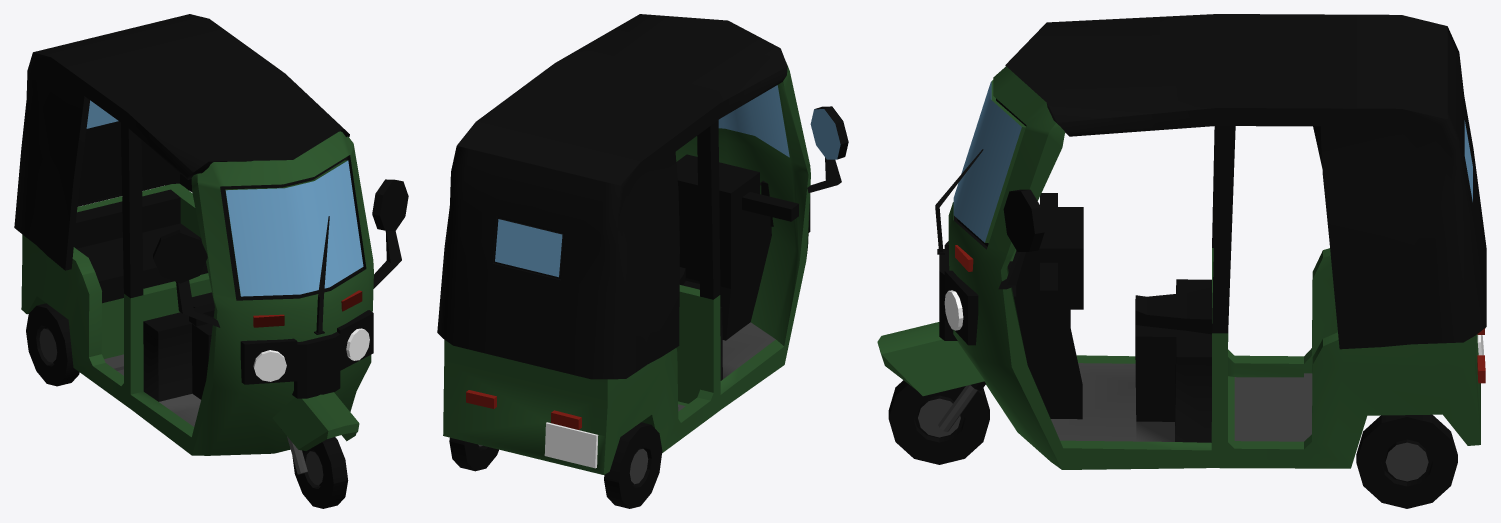
Rendered from SM_Tuktuk_01.fbx.
3 renders of one model, left to right at view 1: azimuth 30°, elevation 25°; view 2: azimuth 150°, elevation 25°; view 3: azimuth 270°, elevation 25°, orthographic. The views are drawn at different scales.
Parts seen in each view (by area): view 1: Cube.001; view 2: Cube.001; view 3: Cube.001.
Part boxes in pixels (left/top/right/bottom): Cube.001: left=14, top=14, right=408, bottom=508; Cube.001: left=437, top=14, right=848, bottom=508; Cube.001: left=877, top=14, right=1486, bottom=508.
Bounding box in the file's own units: 208 × 255 × 352.
